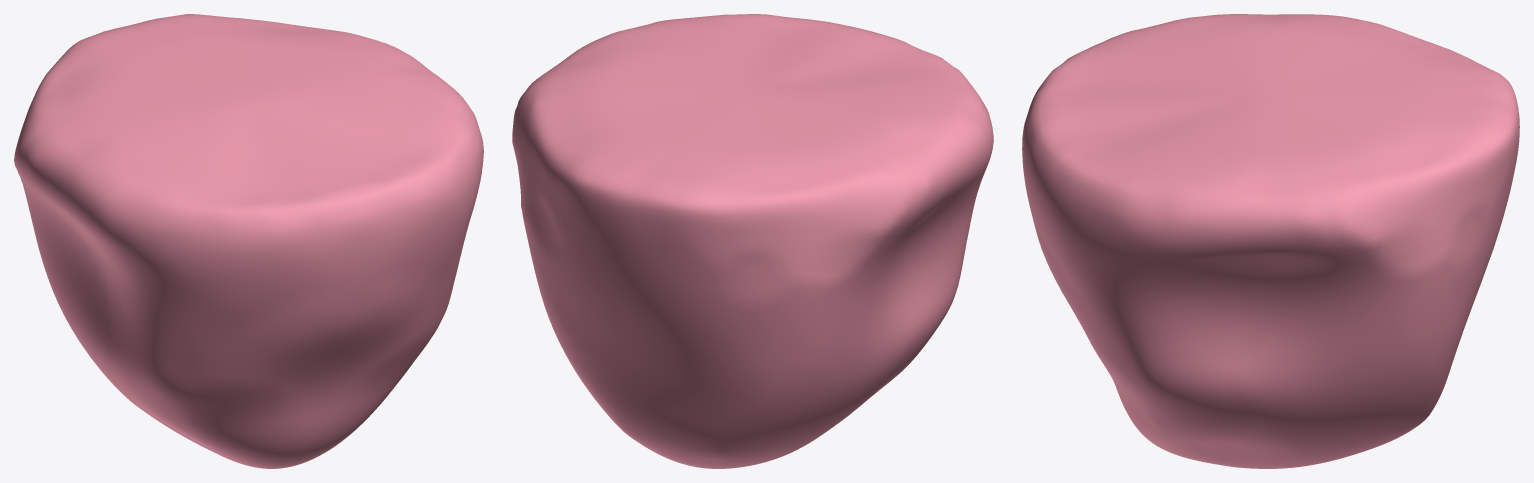
Rendered from Body_Human.fbx.
3 renders of one model, left to right at view 1: azimuth 30°, elevation 25°; view 2: azimuth 150°, elevation 25°; view 3: azimuth 270°, elevation 25°, orthographic. The views are drawn at different scales.
Parts seen in each view (by area): view 1: ObjBody; view 2: ObjBody; view 3: ObjBody.
Part boxes in pixels (x1,y1,x2,y2): ObjBody: (14, 14, 483, 468); ObjBody: (512, 14, 993, 468); ObjBody: (1022, 14, 1519, 468).
Bounding box in the file's own units: 160 × 136 × 168.
